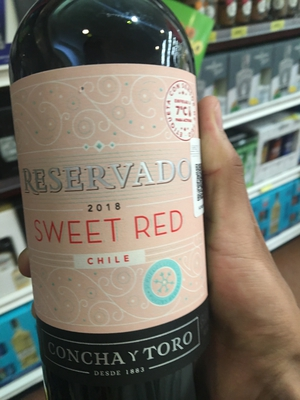reservado sweet red: (9, 8, 215, 391)
